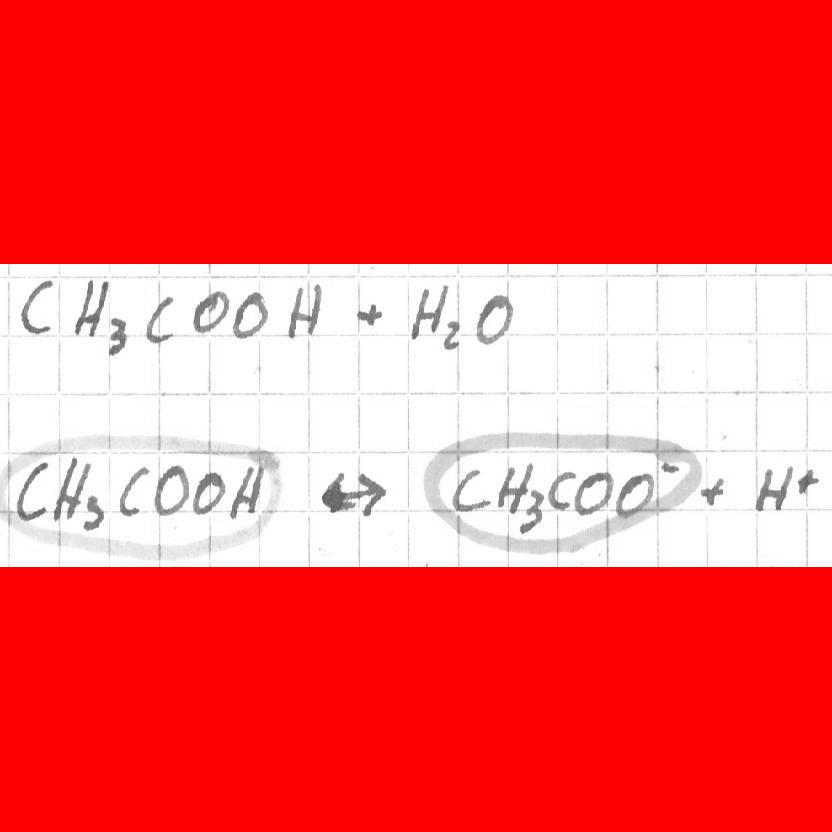Char: (317, 463, 388, 521), (52, 449, 90, 523), (68, 271, 109, 339), (405, 280, 448, 344), (474, 286, 519, 347), (16, 273, 58, 337), (225, 286, 273, 342), (286, 278, 326, 343), (749, 465, 797, 515), (609, 468, 656, 519), (15, 456, 50, 524), (151, 461, 190, 520), (228, 461, 265, 521), (572, 465, 615, 516), (447, 464, 493, 511), (114, 463, 150, 521), (189, 465, 228, 518), (495, 459, 533, 513), (189, 286, 230, 336), (142, 293, 177, 345), (544, 464, 577, 514), (518, 484, 545, 534), (693, 475, 731, 506), (106, 313, 133, 354), (351, 299, 385, 331), (80, 493, 105, 533), (439, 315, 466, 352), (793, 465, 823, 497), (654, 456, 684, 479)
